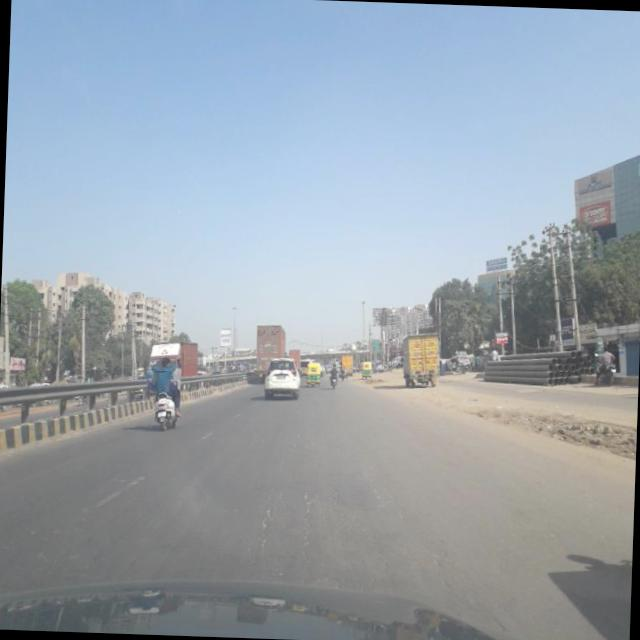pothole: (363, 450, 413, 568), (291, 454, 331, 574), (241, 451, 281, 570)
